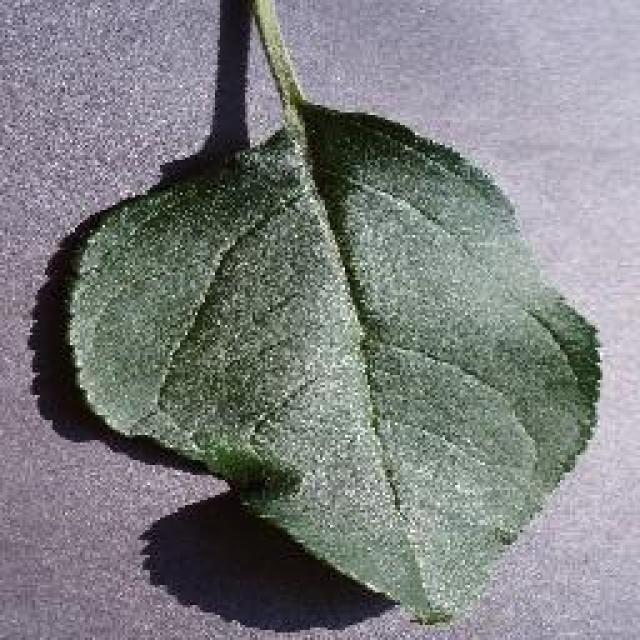apple healthy: (50, 0, 605, 625)
